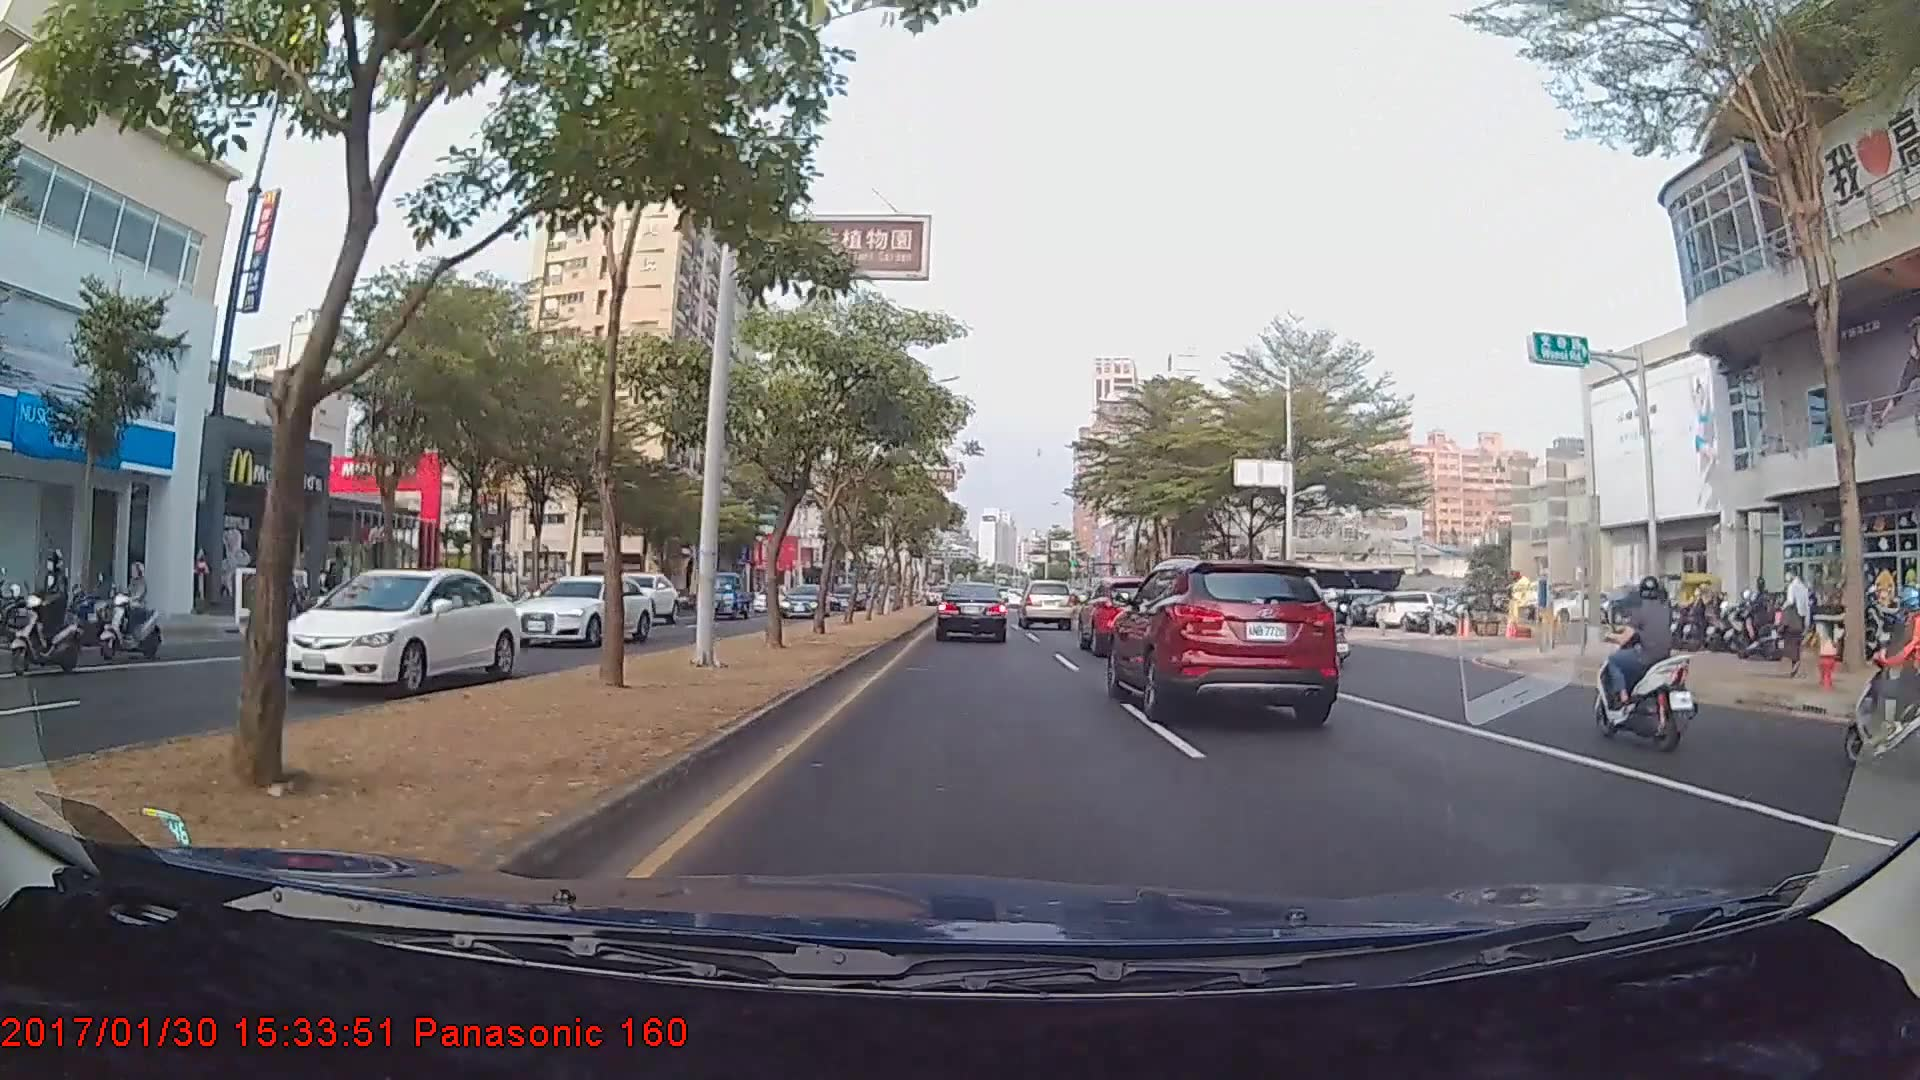pedestrian: (1782, 564, 1816, 676)
rider: (1581, 570, 1701, 752), (1833, 586, 1920, 771), (1, 549, 94, 675), (96, 561, 171, 659)
vehicle: (1110, 558, 1335, 718), (272, 560, 523, 697), (493, 576, 647, 649), (1076, 574, 1184, 654), (935, 581, 1009, 643), (596, 572, 680, 626), (1017, 578, 1079, 630), (695, 569, 752, 620), (779, 584, 828, 617)
